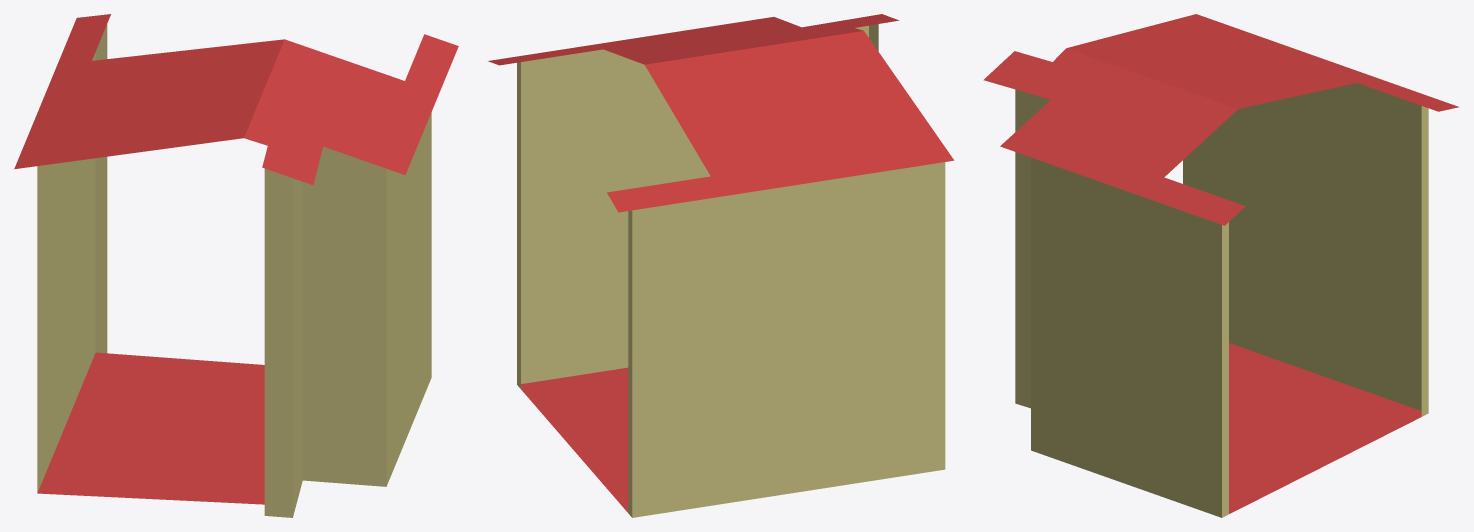
3 renders of one model, left to right at view 1: azimuth 30°, elevation 25°; view 2: azimuth 150°, elevation 25°; view 3: azimuth 270°, elevation 25°, orthographic. The views are drawn at different scales.
Size of the model in its own units: 11.35 by 10.79 by 8.62.
